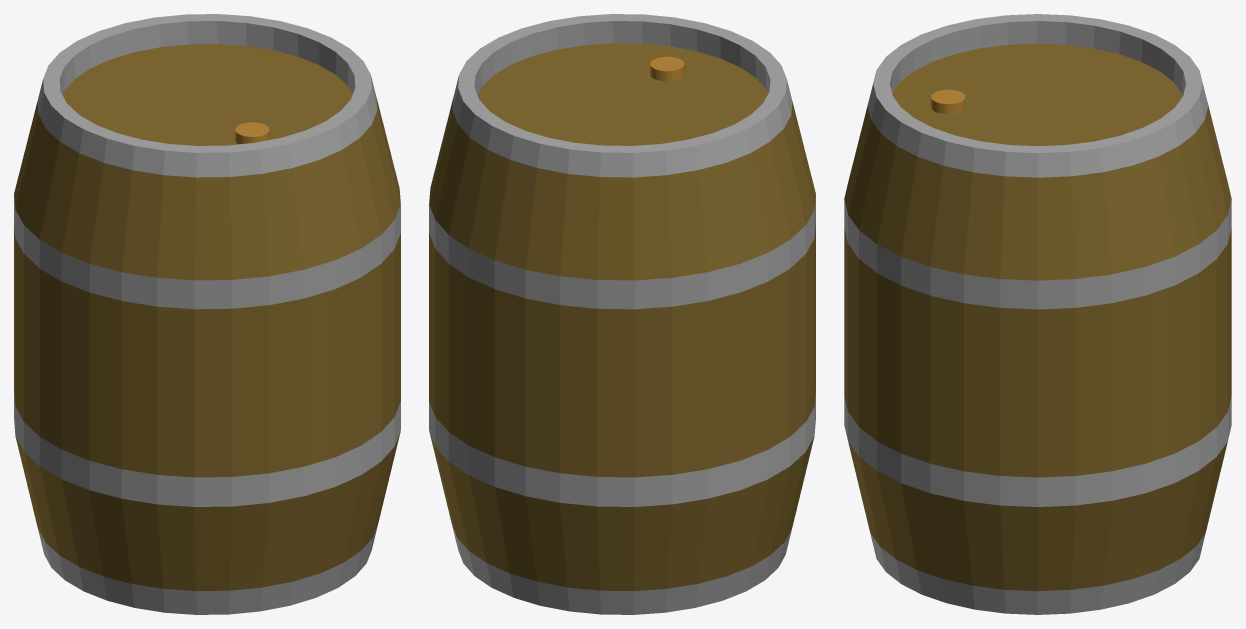
The model's file is barrel.fbx.
3 renders of one model, left to right at view 1: azimuth 30°, elevation 25°; view 2: azimuth 150°, elevation 25°; view 3: azimuth 270°, elevation 25°, orthographic.
Parts seen in each view (by area): view 1: Cylinder; view 2: Cylinder; view 3: Cylinder.
Boxes of the visible parts, <box> form: Cylinder: <box>14,14,400,614</box>; Cylinder: <box>429,14,815,614</box>; Cylinder: <box>844,14,1231,614</box>.
Bounding box in the file's own units: 278 × 365 × 278.
